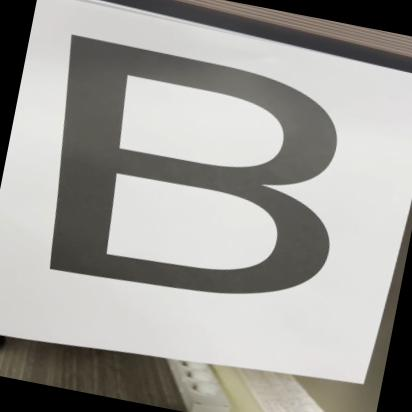seat: (3, 13, 382, 328)
